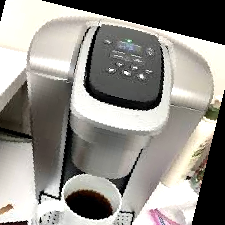10oz: (121, 70, 130, 78)
12oz: (136, 72, 145, 80)
4oz: (115, 60, 124, 67)
6oz: (130, 64, 139, 71)
8oz: (107, 67, 116, 74)
coffee_handle: (78, 112, 145, 145)
water_handle: (29, 69, 69, 85)
